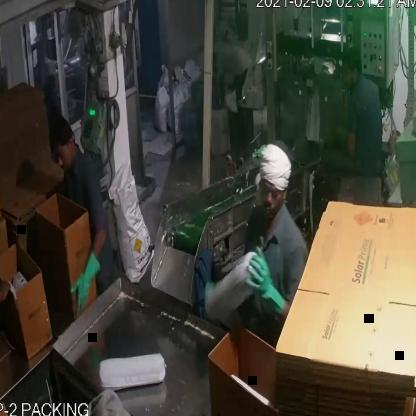glove: (237, 240, 292, 326), (65, 239, 105, 321)
no_glove: (0, 259, 17, 342)
